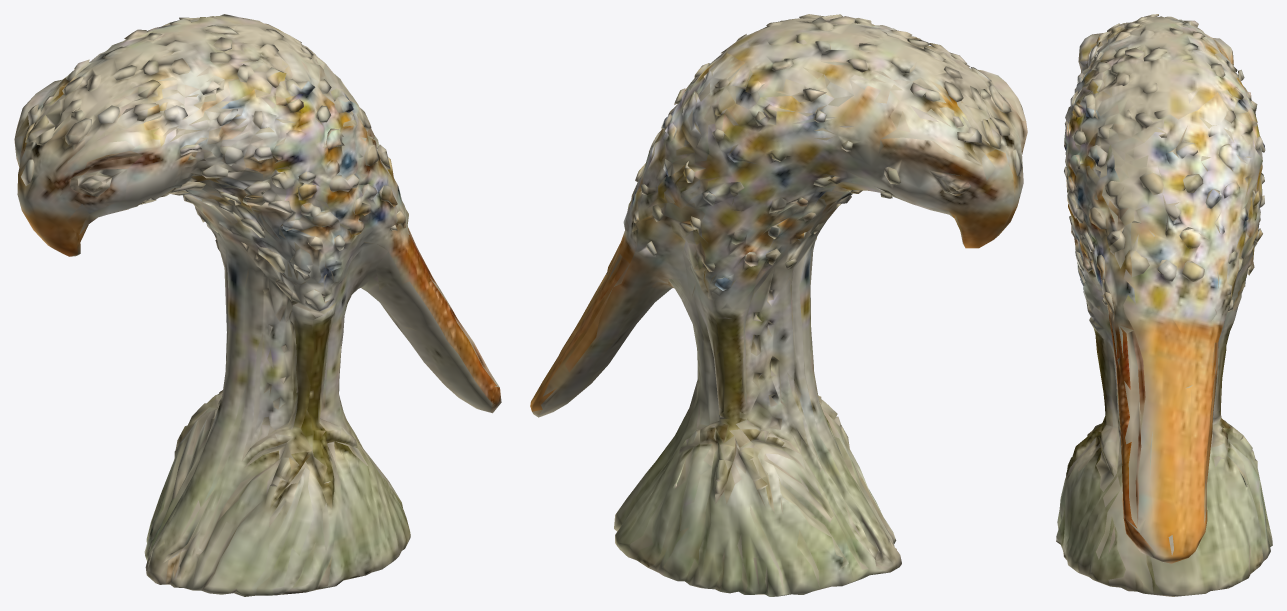
3 views of the same model, side by side, from view 1: azimuth 30°, elevation 25°; view 2: azimuth 150°, elevation 25°; view 3: azimuth 270°, elevation 25° (orthographic). The views are drawn at different scales.
Visible parts, largest first — view 1: Mesh; view 2: Mesh; view 3: Mesh.
Boxes of the visible parts, left/top/right/bottom form: Mesh: left=14, top=14, right=501, bottom=596; Mesh: left=530, top=14, right=1027, bottom=596; Mesh: left=1056, top=14, right=1272, bottom=596.
Size of the model in its own units: 0.1533 by 0.1651 by 0.0688.
1 material, 1 textured.
